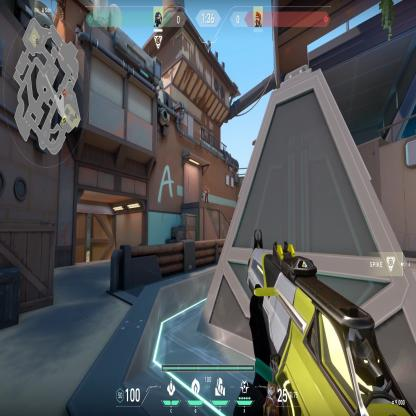enemy: (204, 185, 210, 204)
